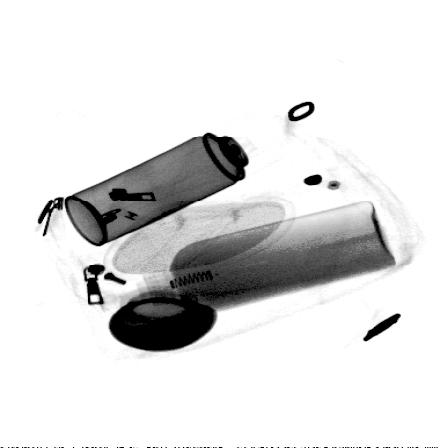Sprayer: (64, 112, 286, 249)
